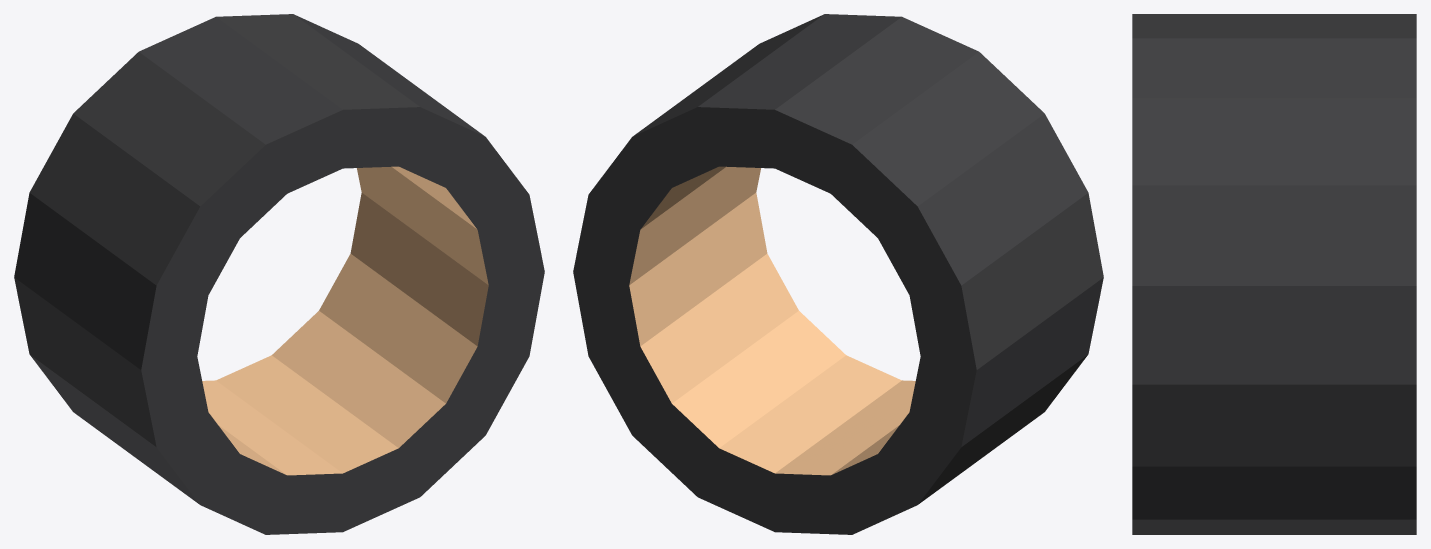
3 views of the same model, side by side, from view 1: azimuth 30°, elevation 25°; view 2: azimuth 150°, elevation 25°; view 3: azimuth 270°, elevation 25° (orthographic). The views are drawn at different scales.
Parts seen in each view (by area): view 1: gaff tape; view 2: gaff tape; view 3: gaff tape.
Part boxes in pixels (x1,y1,x2,y2): gaff tape: (14, 14, 544, 534); gaff tape: (573, 14, 1103, 534); gaff tape: (1132, 14, 1416, 534).
Size of the model in its own units: 5.5 by 5.5 by 3.
